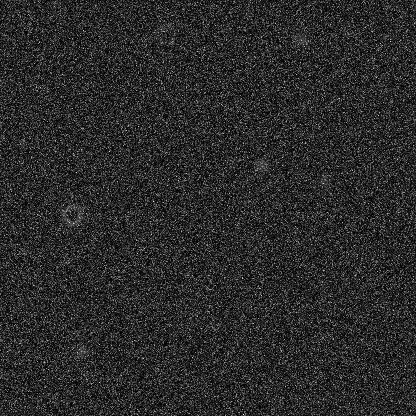Ring: (153, 22, 177, 46), (59, 202, 83, 226), (21, 293, 45, 317)
Spot: (293, 31, 309, 47), (315, 173, 331, 189), (253, 157, 269, 173), (73, 343, 89, 359)
